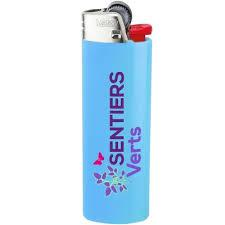lighter: (81, 0, 152, 223)
